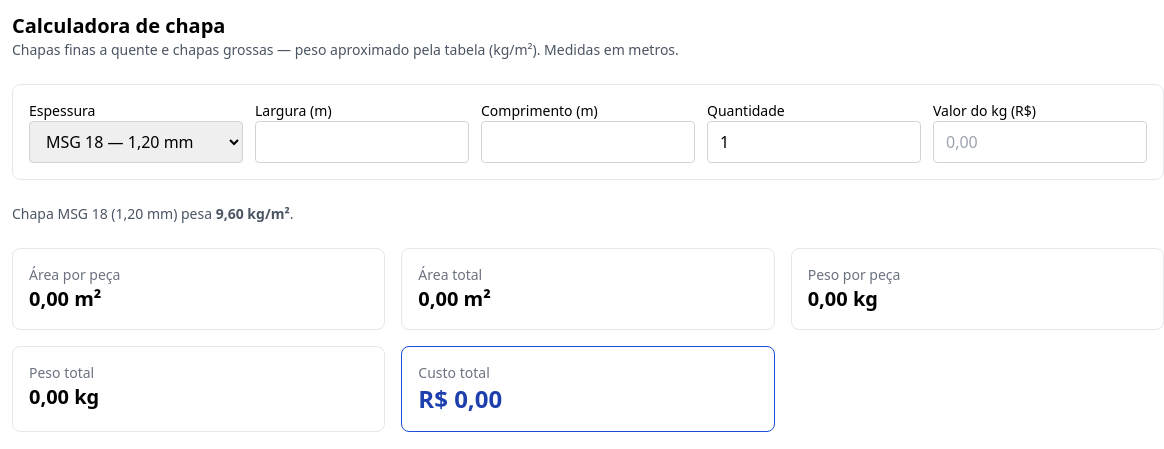
CalculadoraPage › aceita medidas com vírgula
This screenshot has width=1164, height=449.
Step 1. Select "1/4\" — 6,30 mm" in the dropdown labelled "Espessura" → (136, 142), box [29,121,243,163]
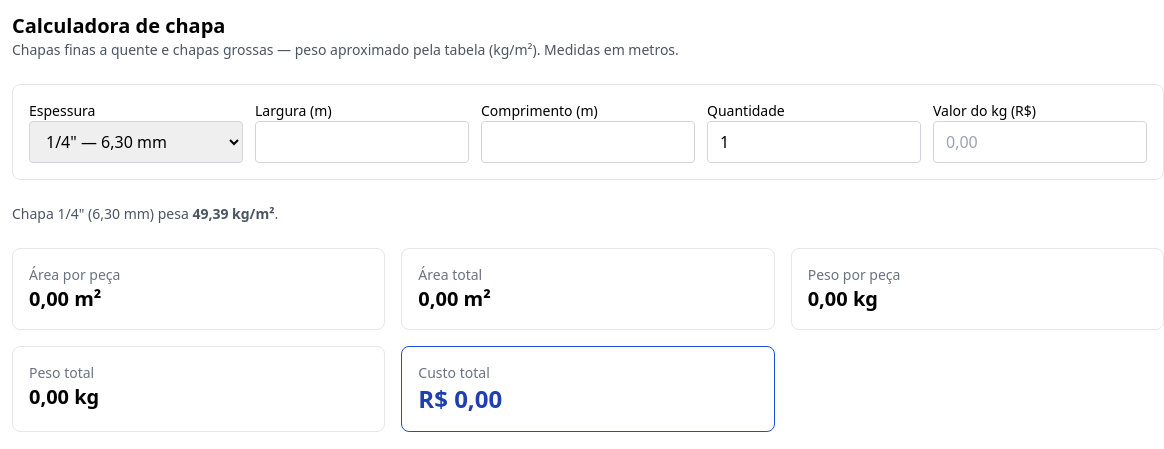
Step 2. Type "1,2" into the field labelled "Largura (m)" → (362, 142), box [255,121,469,163]
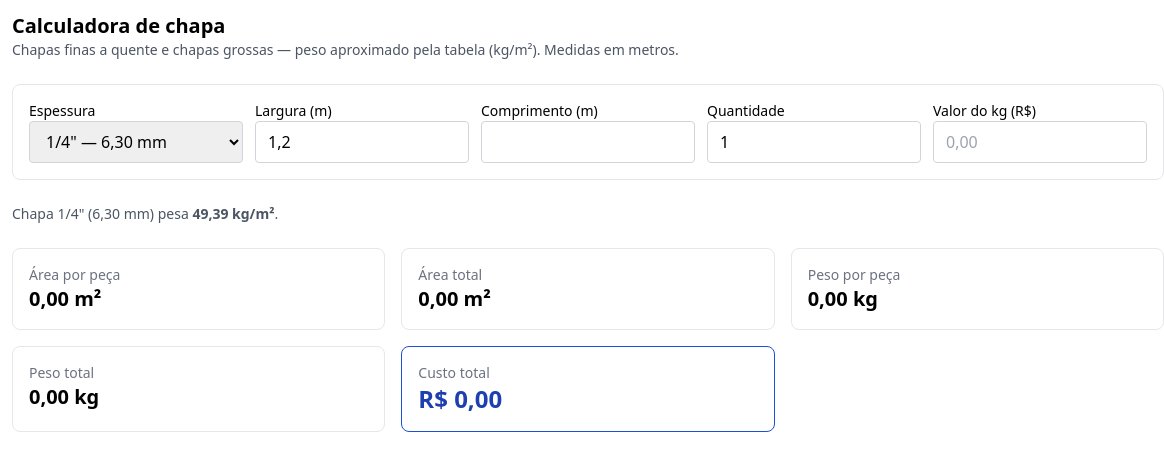
Step 3. Type "0,75" into the field labelled "Comprimento (m)" → (588, 142), box [481,121,695,163]
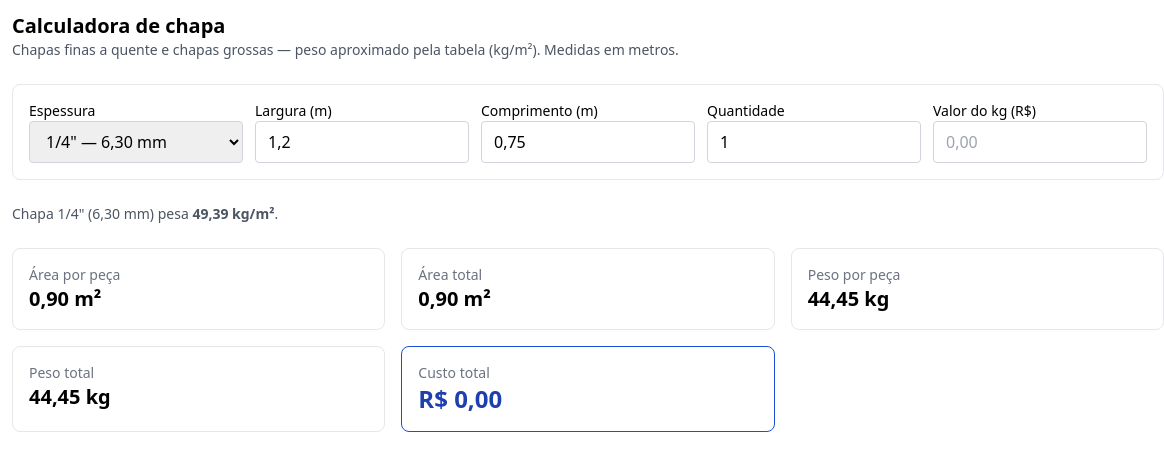
expect the text with test id "area-total" reads "0,90 m²": met, box [418,285,491,312]
